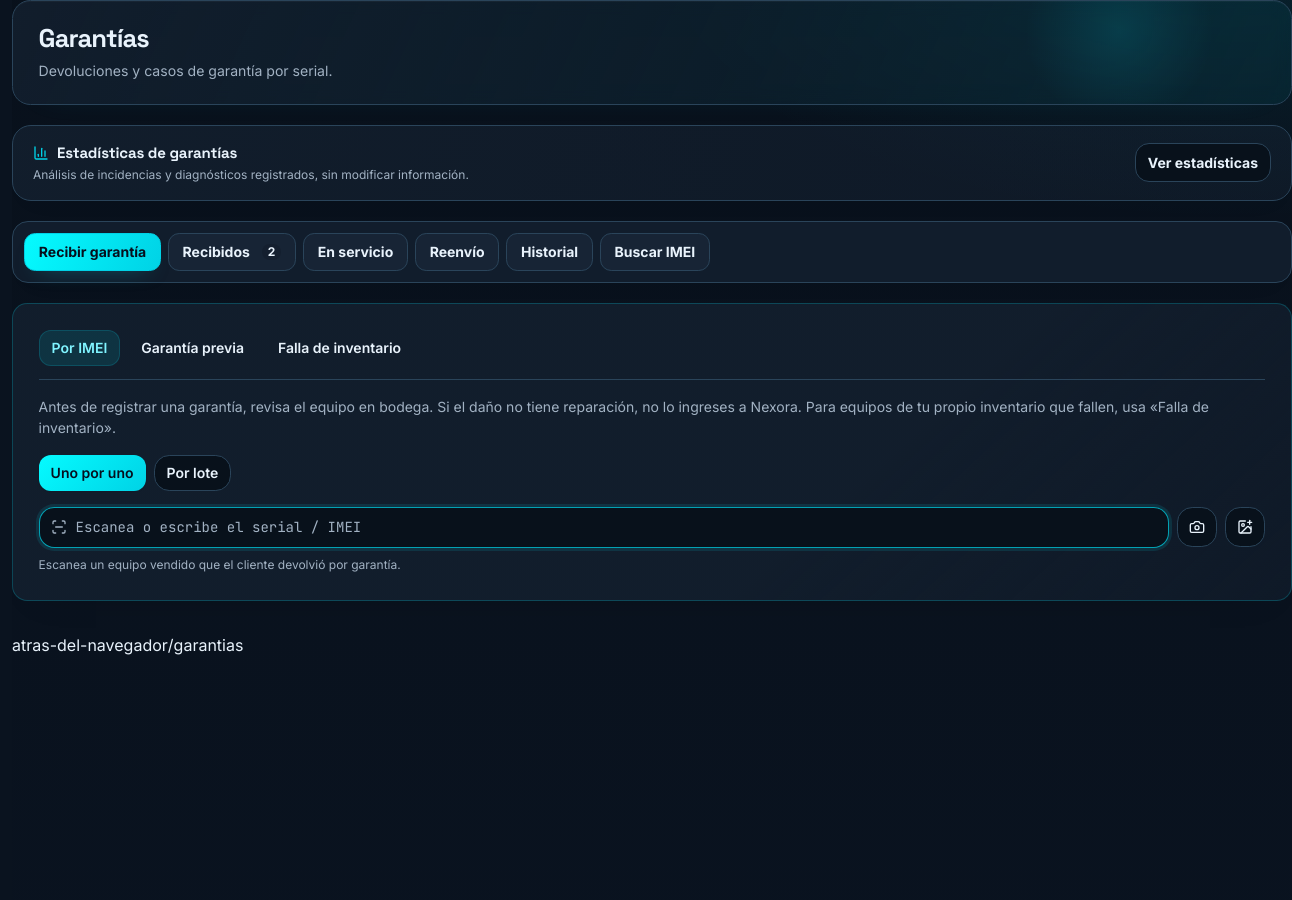
Garantías · pestaña y lotes al ir al detalle y volver › la pestaña activa queda en la dirección
This screenshot has width=1292, height=900.
Click the button "Recibidos 2": {"x": 232, "y": 252} [168, 233, 296, 271]
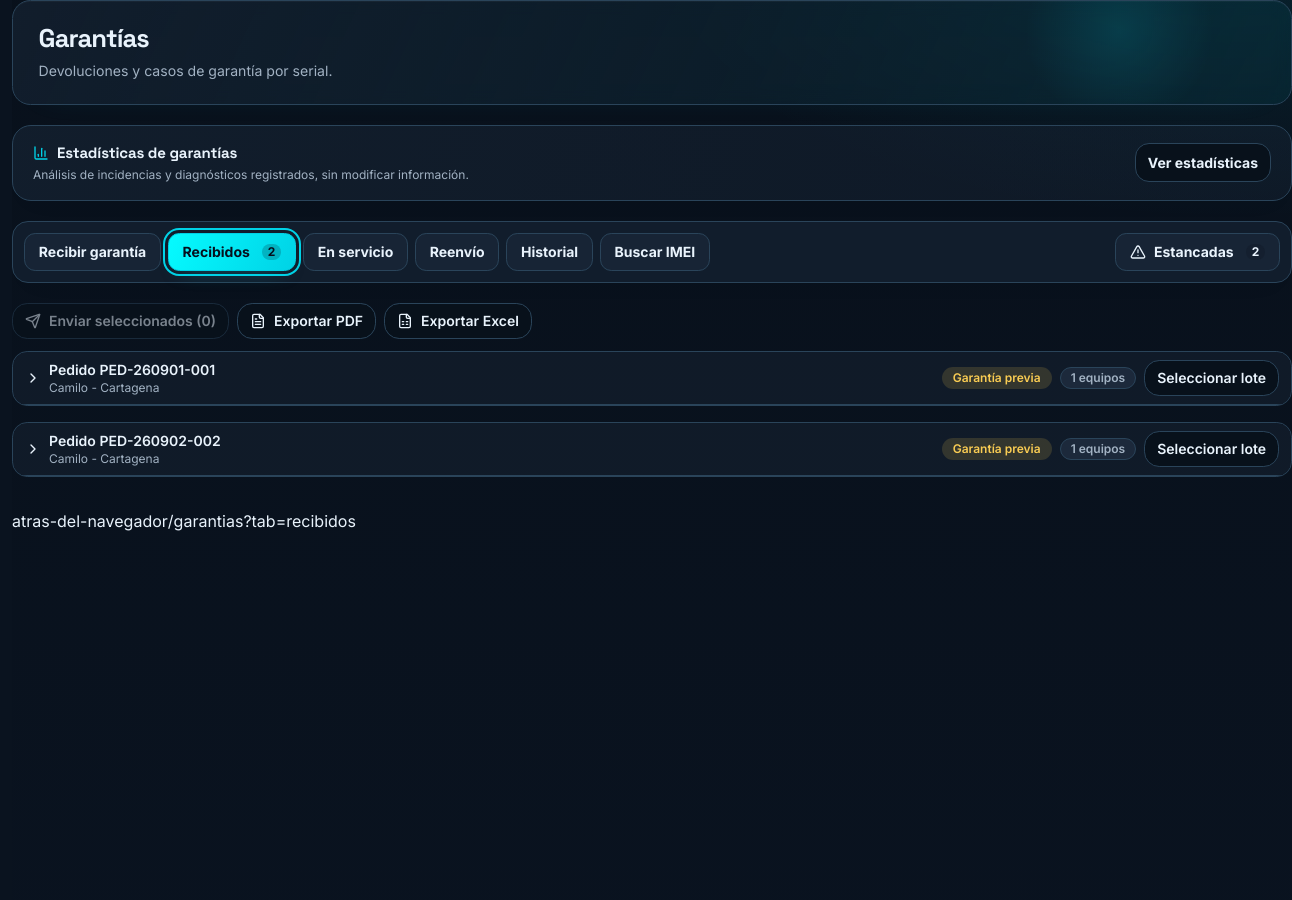
expect the text with test id "ruta" reads "/garantias?tab=recibidos": met, box [168, 511, 356, 531]
